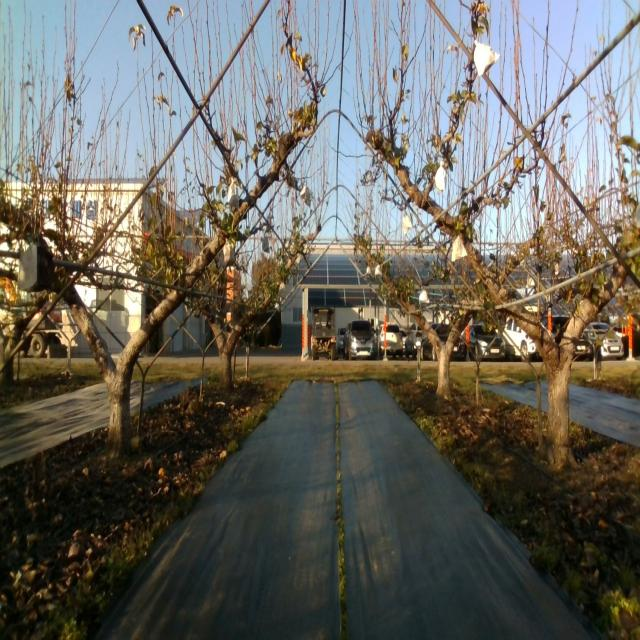pearbags: (473, 40, 501, 76), (451, 236, 468, 262), (435, 160, 446, 192), (228, 177, 239, 209), (223, 240, 235, 263), (402, 210, 412, 236)
